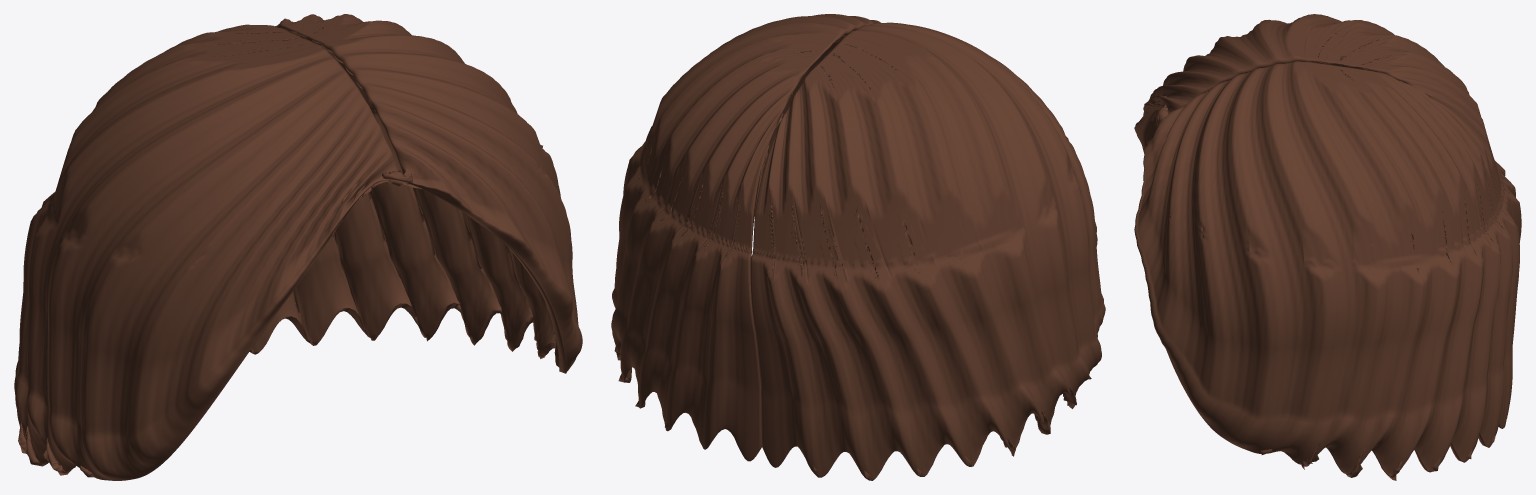
The model's file is Masculine-flow-bucket252-hair.glb.
3 renders of one model, left to right at view 1: azimuth 30°, elevation 25°; view 2: azimuth 150°, elevation 25°; view 3: azimuth 270°, elevation 25°, orthographic. The views are drawn at different scales.
Visible parts, largest first — view 1: 226 hair / Hair252 / flowing sculpt flow.001; view 2: 226 hair / Hair252 / flowing sculpt flow.001; view 3: 226 hair / Hair252 / flowing sculpt flow.001.
Boxes of the visible parts, bbox=[...] form: 226 hair / Hair252 / flowing sculpt flow.001: bbox=[14, 14, 582, 480]; 226 hair / Hair252 / flowing sculpt flow.001: bbox=[611, 14, 1105, 480]; 226 hair / Hair252 / flowing sculpt flow.001: bbox=[1134, 14, 1521, 480].
Size of the model in its own units: 1.11 by 0.8485 by 0.8447.
